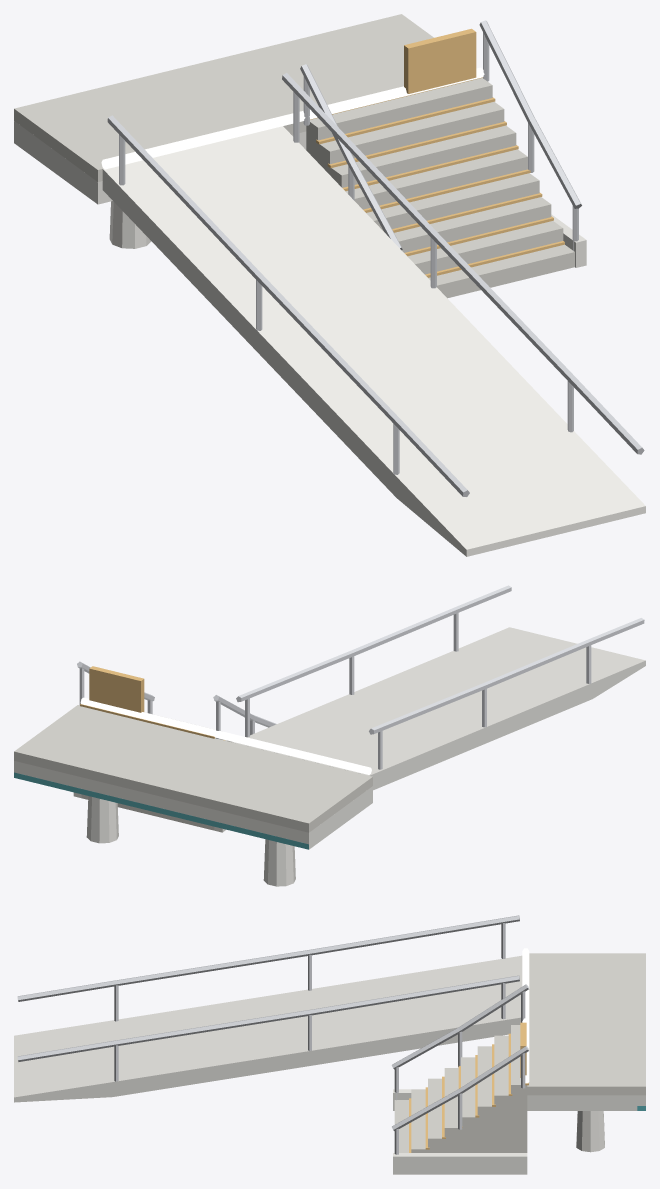
Rendered from arcology-towers-and-skyways-deck-stair-ramp-module-653e5174__23265.glb.
3 renders of one model, top to bottom at view 1: azimuth 30°, elevation 25°; view 2: azimuth 150°, elevation 25°; view 3: azimuth 270°, elevation 25°, orthographic. The views are drawn at different scales.
Parts seen in each view (by area): view 1: deck-stair-ramp-module; view 2: deck-stair-ramp-module; view 3: deck-stair-ramp-module.
Boxes of the visible parts, <box> form: deck-stair-ramp-module: <box>14,14,645,556</box>; deck-stair-ramp-module: <box>14,585,645,886</box>; deck-stair-ramp-module: <box>14,915,645,1174</box>.
Size of the model in its own units: 8.12 by 3.53 by 16.
